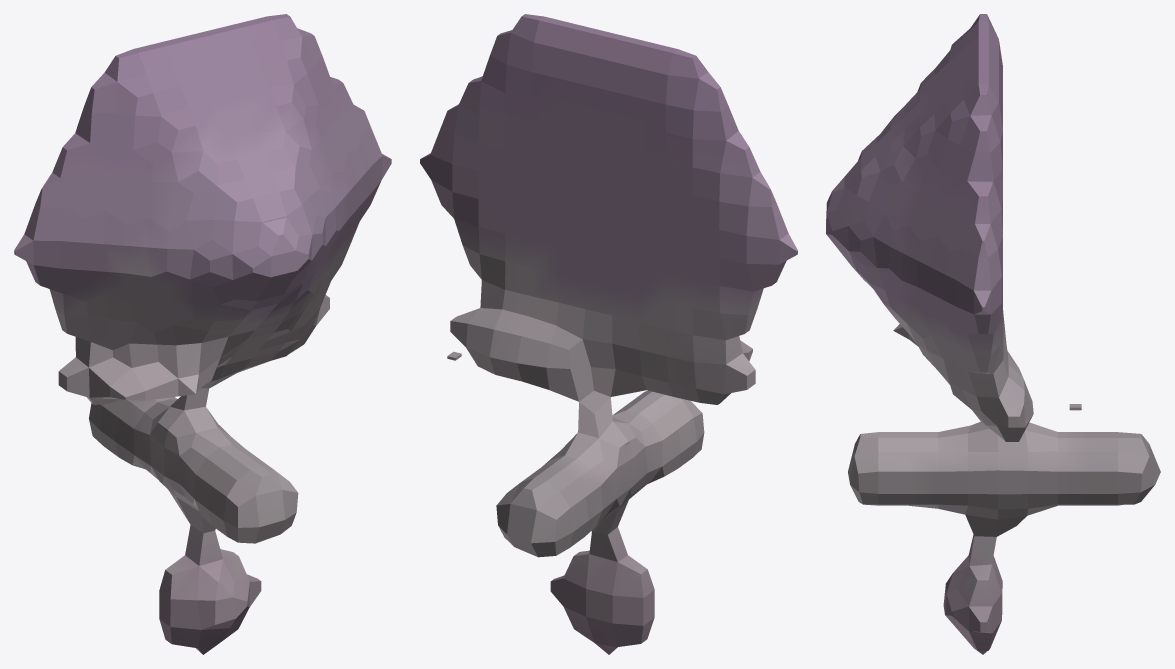
The model's file is mandrake.glb.
3 renders of one model, left to right at view 1: azimuth 30°, elevation 25°; view 2: azimuth 150°, elevation 25°; view 3: azimuth 270°, elevation 25°, orthographic. The views are drawn at different scales.
Parts seen in each view (by area): view 1: geometry_0; view 2: geometry_0; view 3: geometry_0.
Part boxes in pixels (box(x1,y1,x2,y2)): geometry_0: box(14, 14, 391, 654); geometry_0: box(420, 14, 797, 654); geometry_0: box(826, 14, 1160, 654).
Size of the model in its own units: 0.5863 by 0.9232 by 0.4656.
1 material, 1 textured.
